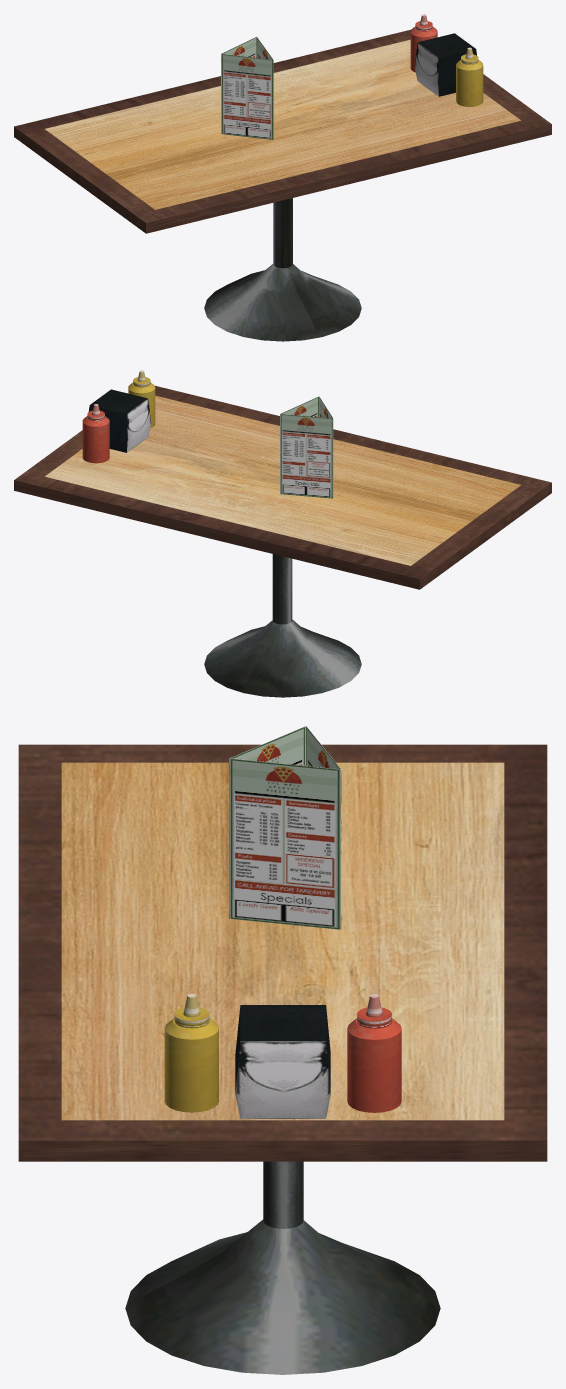
The model's file is mesaLarga.obj.
3 views of the same model, one above another, from view 1: azimuth 30°, elevation 25°; view 2: azimuth 150°, elevation 25°; view 3: azimuth 270°, elevation 25° (orthographic). The views are drawn at different scales.
Visible parts, largest first — view 1: pasted__pasted__pCube3 group; view 2: pasted__pasted__pCube3 group; view 3: pasted__pasted__pCube3 group.
Part boxes in pixels (x1,y1,x2,y2): pasted__pasted__pCube3 group: (14, 14, 551, 341); pasted__pasted__pCube3 group: (14, 370, 551, 697); pasted__pasted__pCube3 group: (18, 726, 547, 1374).
Size of the model in its own units: 2.46 by 1.53 by 1.39.
Materials: 9 (9 with a texture image).
